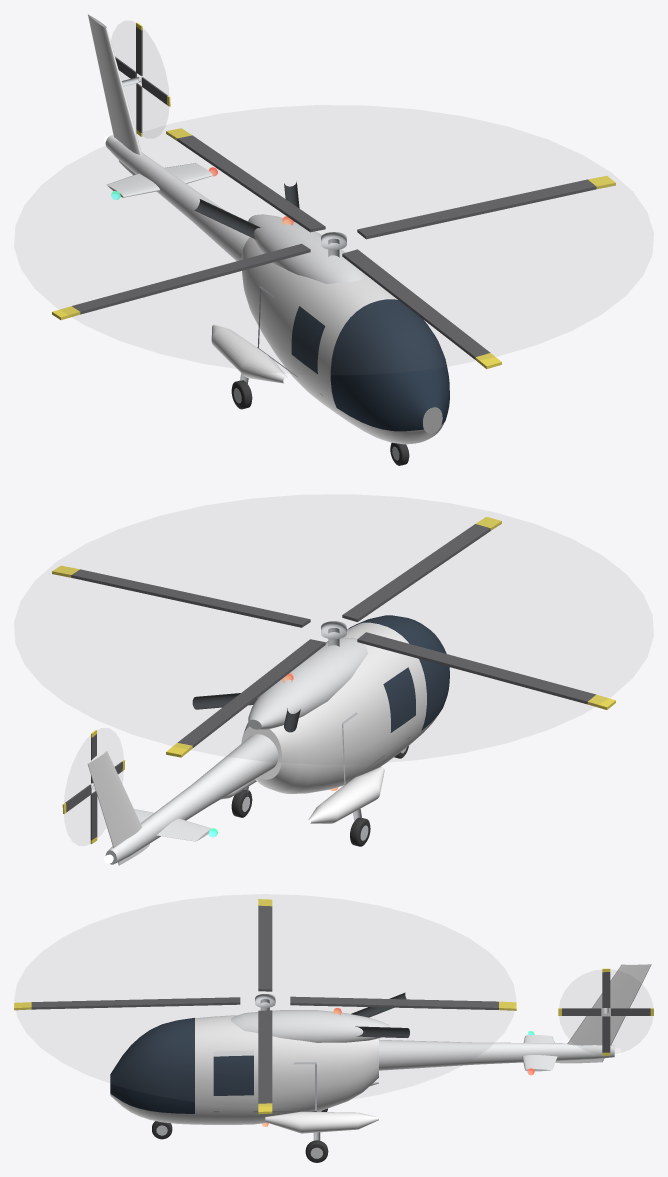
The picture shows the model from 3 angles, top to bottom: view 1: azimuth 30°, elevation 25°; view 2: azimuth 150°, elevation 25°; view 3: azimuth 270°, elevation 25°; orthographic projection. The views are drawn at different scales.
Visible parts, largest first — view 1: airframe, rotor, tail; view 2: airframe, rotor, tail; view 3: airframe, rotor, tail.
Part boxes in pixels (x1=…): airframe: x1=87, y1=14, x2=449, y2=465; rotor: x1=52, y1=128, x2=615, y2=369; tail: x1=115, y1=22, x2=170, y2=136; airframe: x1=87, y1=615, x2=449, y2=865; rotor: x1=52, y1=516, x2=615, y2=757; tail: x1=62, y1=730, x2=125, y2=844; airframe: x1=110, y1=963, x2=651, y2=1162; rotor: x1=14, y1=899, x2=516, y2=1114; tail: x1=558, y1=968, x2=653, y2=1055.
Bounding box in the file's own units: 13.4 × 5.27 × 17.06.
